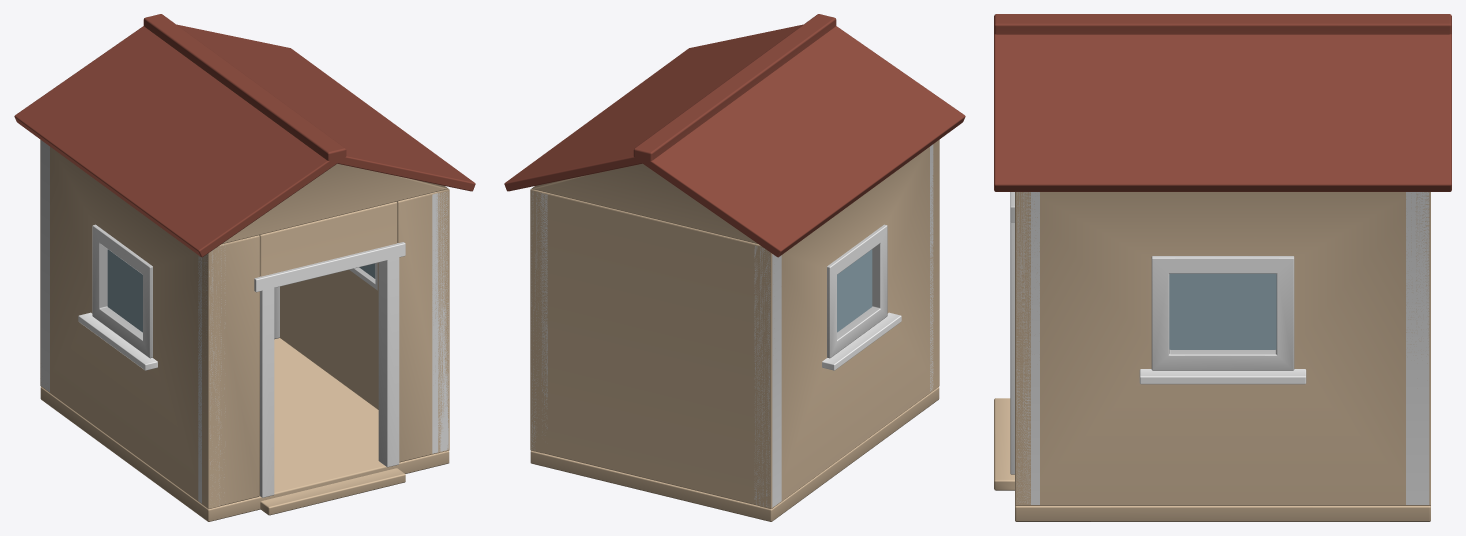
Rendered from playhouse.glb.
The picture shows the model from 3 angles, left to right: view 1: azimuth 30°, elevation 25°; view 2: azimuth 150°, elevation 25°; view 3: azimuth 270°, elevation 25°; orthographic projection. The views are drawn at different scales.
Parts seen in each view (by area): view 1: playhouse; view 2: playhouse; view 3: playhouse.
Boxes of the visible parts, box(x1,y1,x2,y2) form: playhouse: box(14, 14, 475, 521); playhouse: box(504, 14, 965, 521); playhouse: box(994, 14, 1451, 521).
Size of the model in its own units: 1.33 by 1.6 by 1.54.
